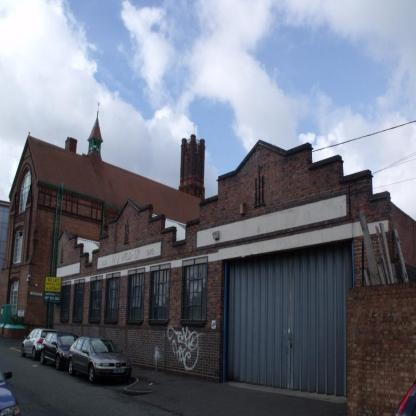Car: (70, 337, 131, 385), (41, 334, 78, 373), (21, 329, 55, 360), (1, 370, 23, 416)
